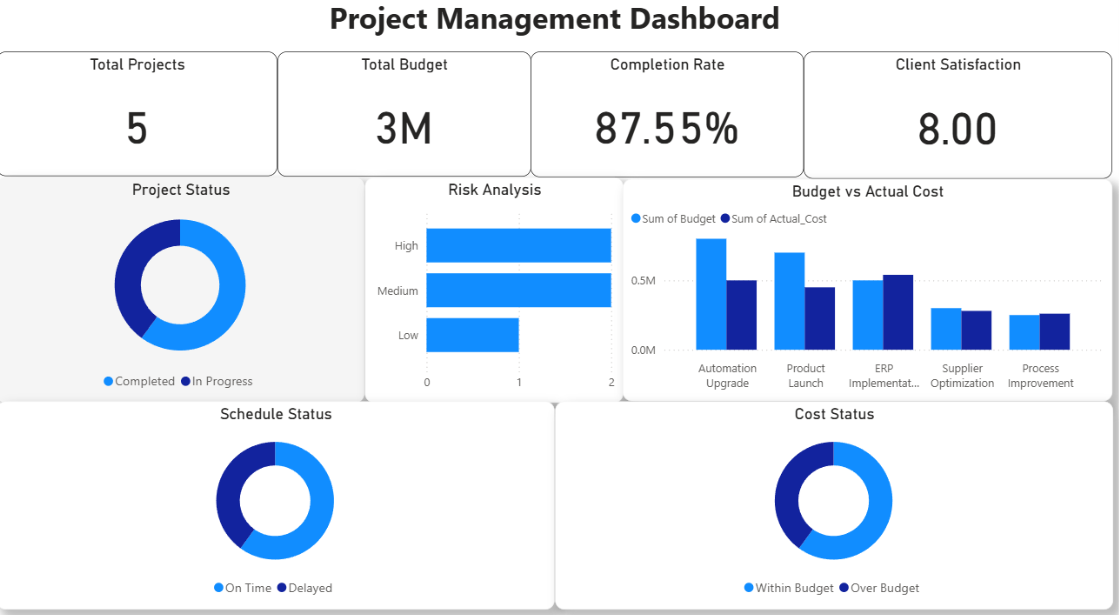

The dashboard page shown, as its layout file describes it:
{"tool":"powerbi","page":{"name":"Page 1","canvas":[1280,720],"ordinal":0},"visuals":[{"type":"card","title":"Total Projects","fields":{"Values":["CountNonNull(Sheet1.Project_ID)"]},"box":[0,82.7,302.9,134],"z":0},{"type":"card","title":"Total Budget","fields":{"Values":["Sum(Sheet1.Budget)"]},"box":[302.9,82.1,273.6,134.9],"z":1000},{"type":"card","title":"Completion Rate","fields":{"Values":["Avg(Sheet1.Completion_Percentage)"]},"box":[576.1,81.9,294.4,135.7],"z":2000},{"type":"card","title":"Client Satisfaction","fields":{"Values":["Avg(Sheet1.Client_Satisfaction)"]},"box":[870.5,82.7,332.6,137.4],"z":3000},{"type":"donutChart","title":"Project Status","fields":{"Category":["Sheet1.Project_Status"],"Y":["CountNonNull(Sheet1.Project_ID)"]},"box":[0,217.6,396.8,243.2],"z":4000},{"type":"clusteredBarChart","title":"Risk Analysis","fields":{"Category":["Sheet1.Risk_Level"],"Y":["CountNonNull(Sheet1.Project_ID)"]},"box":[396.8,217.6,279.1,243.2],"z":5000},{"type":"clusteredColumnChart","title":"Budget vs Actual Cost","fields":{"Category":["Sheet1.Project_Name"],"Y":["Sum(Sheet1.Budget)","Sum(Sheet1.Actual_Cost)"]},"box":[675.2,220.1,527.9,240],"z":6000},{"type":"donutChart","title":"Schedule Status","fields":{"Category":["Sheet1.Schedule_Status"],"Y":["CountNonNull(Sheet1.Project_ID)"]},"box":[0,460.9,601.7,225.3],"z":7000},{"type":"donutChart","title":"Cost Status","fields":{"Category":["Sheet1.Cost_Status"],"Y":["CountNonNull(Sheet1.Project_ID)"]},"box":[601.7,460.9,601.7,225.3],"z":8000},{"type":"textbox","box":[0,17.6,1203.9,62.5],"z":9000}]}

Visuals, with their boxes in screenshot pixels (x1, y1, x2, y2), scaled from the page's 1280x720 canvas onto the 1119x616 screenshot:
"Total Projects" card: l=0, t=71, r=265, b=185
"Total Budget" card: l=265, t=70, r=504, b=186
"Completion Rate" card: l=504, t=70, r=761, b=186
"Client Satisfaction" card: l=761, t=71, r=1052, b=188
"Project Status" donutChart: l=0, t=186, r=347, b=394
"Risk Analysis" clusteredBarChart: l=347, t=186, r=591, b=394
"Budget vs Actual Cost" clusteredColumnChart: l=590, t=188, r=1052, b=394
"Schedule Status" donutChart: l=0, t=394, r=526, b=587
"Cost Status" donutChart: l=526, t=394, r=1052, b=587
textbox: l=0, t=15, r=1052, b=69
